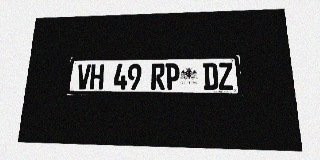4: (113, 64, 128, 90)
9: (127, 64, 142, 90)
D: (203, 63, 218, 90)
H: (90, 64, 104, 90)
P: (166, 63, 180, 90)
R: (151, 63, 165, 90)
V: (76, 64, 91, 90)
Z: (218, 63, 234, 90)
